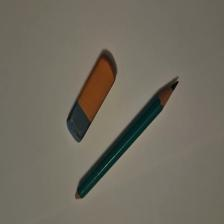eraser: (68, 56, 117, 144)
pencil: (76, 82, 180, 201)
